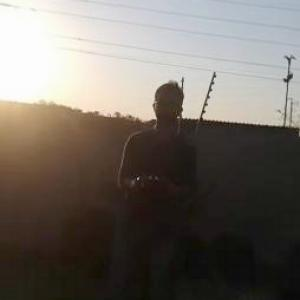follow: (115, 74, 203, 299)
